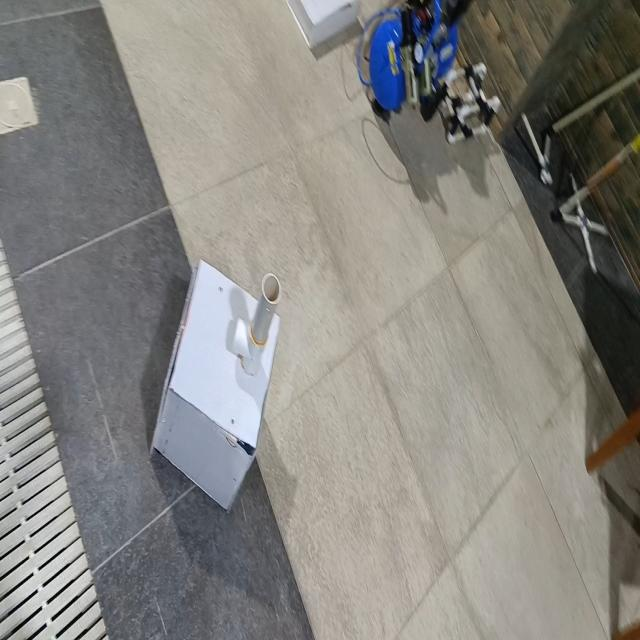Cube: (149, 256, 282, 513)
Cuboid: (285, 0, 361, 52)
